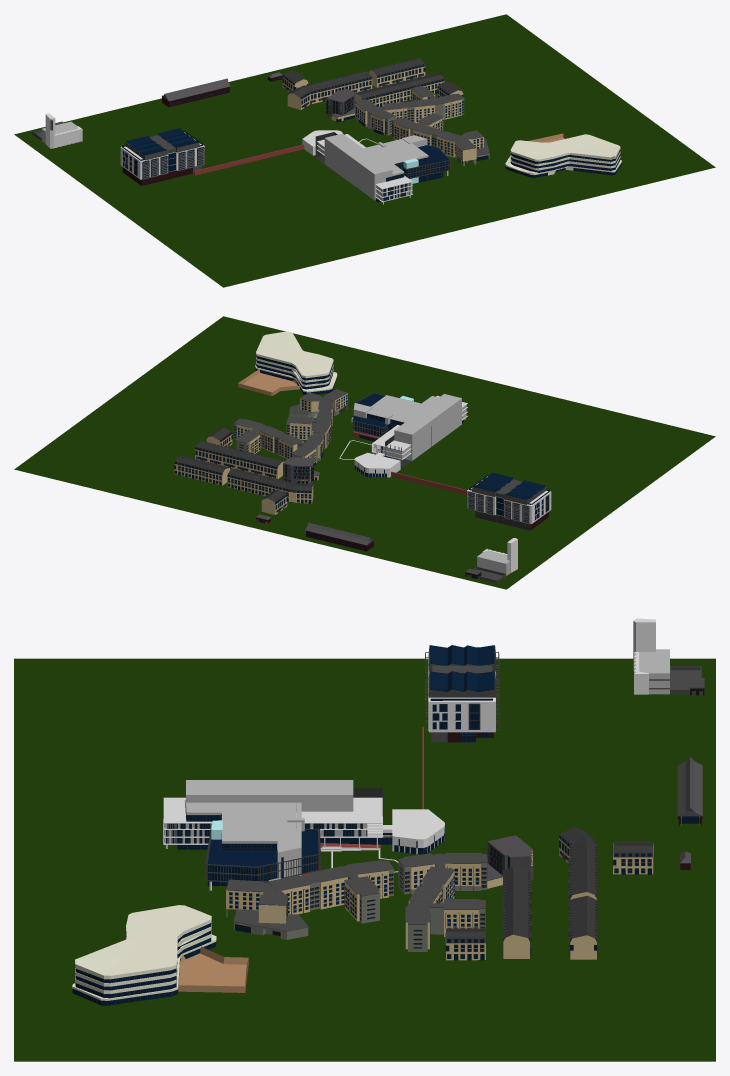
The model's file is ScaledJMap.glb.
The picture shows the model from 3 angles, top to bottom: view 1: azimuth 30°, elevation 25°; view 2: azimuth 150°, elevation 25°; view 3: azimuth 270°, elevation 25°; orthographic projection. The views are drawn at different scales.
Parts seen in each view (by area): view 1: Plane.002, CHWhiteBorder, Cube.031, Cube.021, CreativeHubTop, SolarRoof, SecondFloorBlock, LeftBlind, Windows.025, Cube.036, Cube.029, TopBlock (+4 smaller); view 2: Plane.002, Cube.031, CHWhiteBorder, Cube.021, Cube.012, SolarRoof, RightBlind, Cube.034, SecondFloorBlock, CreativeHubTop, SHbase, PowerBaseBlock.001 (+6 smaller); view 3: Plane.002, CHWhiteBorder, Cube.021, Cube.031, SecondFloorBlock, Cube.029, Cube.012, SolarRoof, Cube.034, CreativeHubTop, SenateBaseMainBlock, SecondFloorBlock.001 (+11 smaller).
Boxes of the visible parts, x1=… form: Plane.002: x1=14, y1=14, x2=715, y2=287; CHWhiteBorder: x1=510, y1=134, x2=620, y2=170; Cube.031: x1=324, y1=133, x2=392, y2=200; Cube.021: x1=363, y1=135, x2=428, y2=177; CreativeHubTop: x1=511, y1=150, x2=620, y2=172; SolarRoof: x1=126, y1=128, x2=198, y2=155; SecondFloorBlock: x1=386, y1=145, x2=449, y2=181; LeftBlind: x1=142, y1=147, x2=204, y2=179; Windows.025: x1=142, y1=147, x2=203, y2=178; Cube.036: x1=194, y1=144, x2=304, y2=175; Cube.029: x1=317, y1=134, x2=412, y2=202; TopBlock: x1=125, y1=133, x2=199, y2=160; Plane.002: x1=14, y1=316, x2=715, y2=589; Cube.031: x1=394, y1=394, x2=461, y2=460; CHWhiteBorder: x1=256, y1=331, x2=333, y2=386; Cube.021: x1=351, y1=395, x2=438, y2=424; Cube.012: x1=238, y1=369, x2=299, y2=395; SolarRoof: x1=473, y1=472, x2=545, y2=499; RightBlind: x1=467, y1=491, x2=529, y2=524; Cube.034: x1=354, y1=452, x2=400, y2=477; SecondFloorBlock: x1=353, y1=393, x2=404, y2=436; CreativeHubTop: x1=256, y1=355, x2=332, y2=389; SHbase: x1=283, y1=457, x2=313, y2=483; PowerBaseBlock.001: x1=477, y1=550, x2=510, y2=575; Plane.002: x1=14, y1=658, x2=715, y2=1061; CHWhiteBorder: x1=75, y1=905, x2=211, y2=993; Cube.021: x1=185, y1=798, x2=304, y2=880; Cube.031: x1=186, y1=780, x2=353, y2=811; SecondFloorBlock: x1=185, y1=809, x2=318, y2=881; Cube.029: x1=163, y1=797, x2=382, y2=844; Cube.012: x1=178, y1=946, x2=248, y2=992; SolarRoof: x1=430, y1=645, x2=494, y2=692; Cube.034: x1=383, y1=809, x2=444, y2=854; CreativeHubTop: x1=76, y1=923, x2=210, y2=998; SenateBaseMainBlock: x1=429, y1=671, x2=495, y2=732; SecondFloorBlock.001: x1=185, y1=788, x2=382, y2=882.
Size of the model in its own units: 428 by 26.59 by 315.
